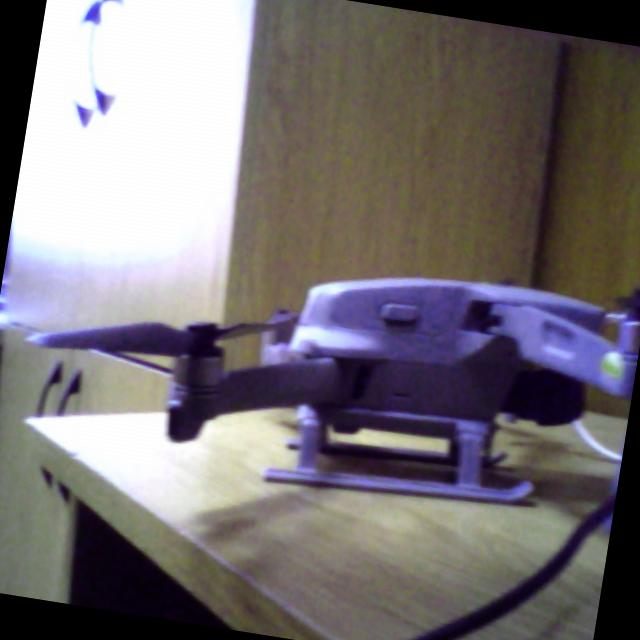drone: (44, 201, 640, 564)
